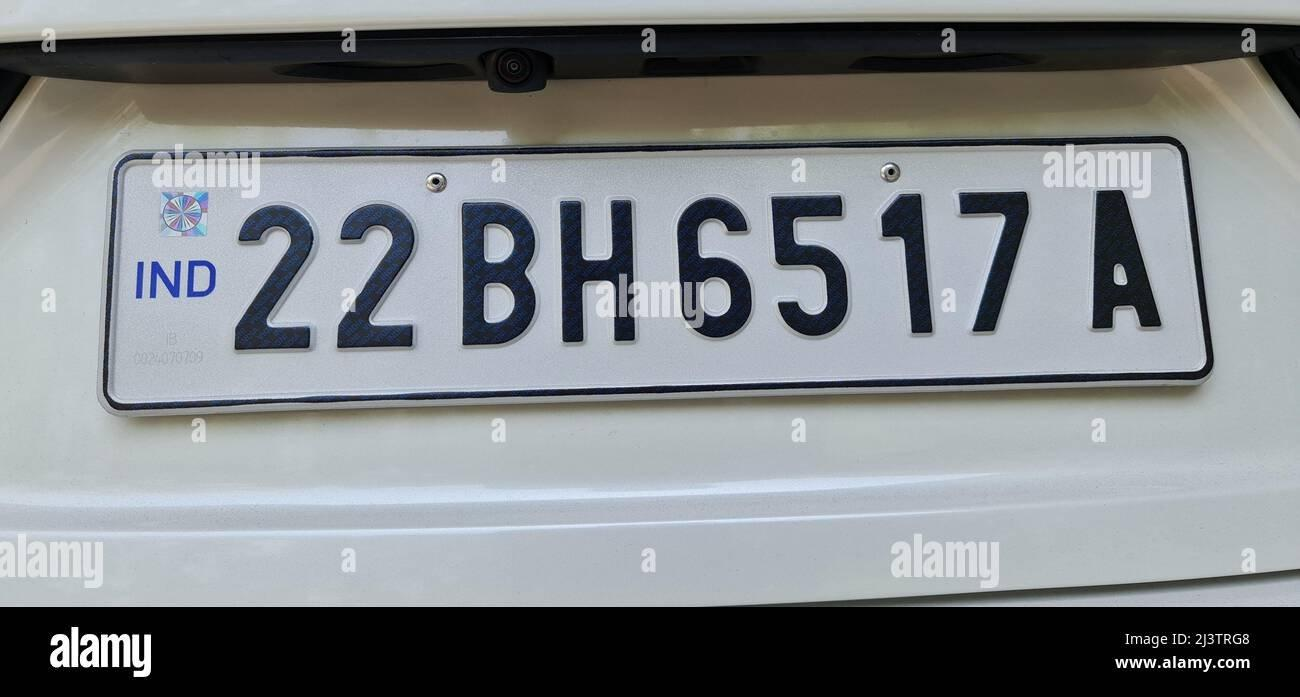Liscence Plate: (135, 159, 1188, 402)
